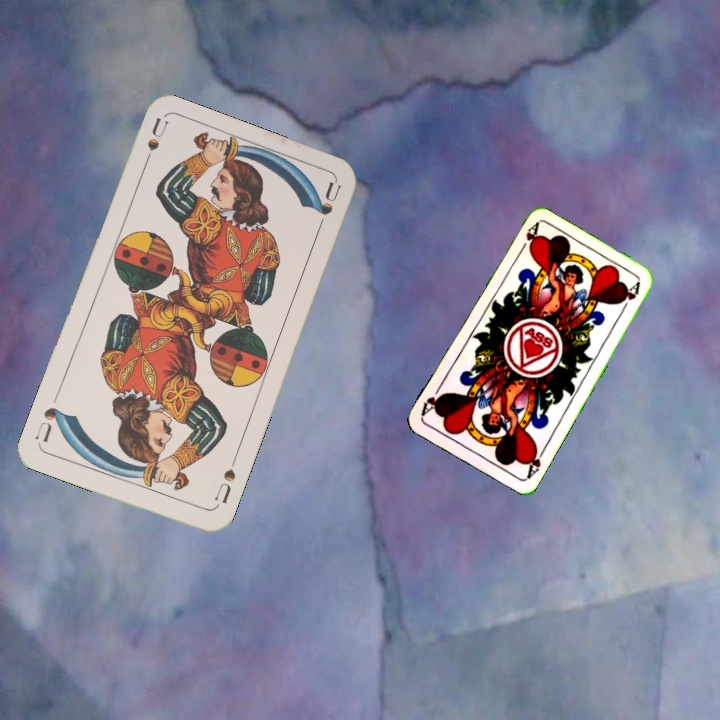HA: (522, 442, 549, 481), (514, 220, 541, 257)
SU: (138, 115, 171, 174), (210, 453, 239, 510)
